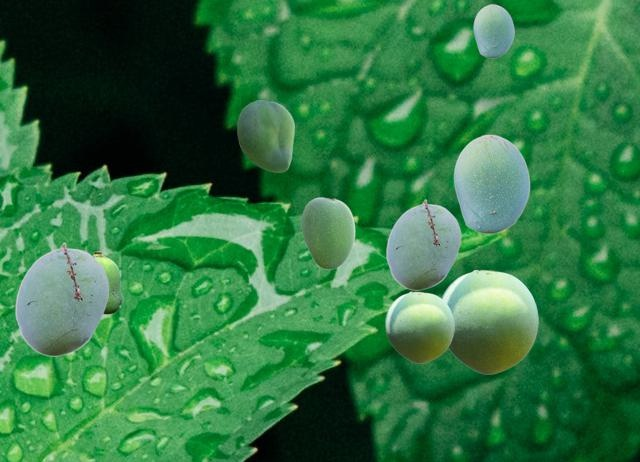green_mango: (15, 242, 108, 355), (441, 269, 537, 373), (453, 134, 529, 233), (386, 199, 460, 289), (385, 291, 453, 362), (237, 100, 293, 171), (301, 197, 354, 268), (473, 4, 513, 57), (93, 251, 122, 313)
